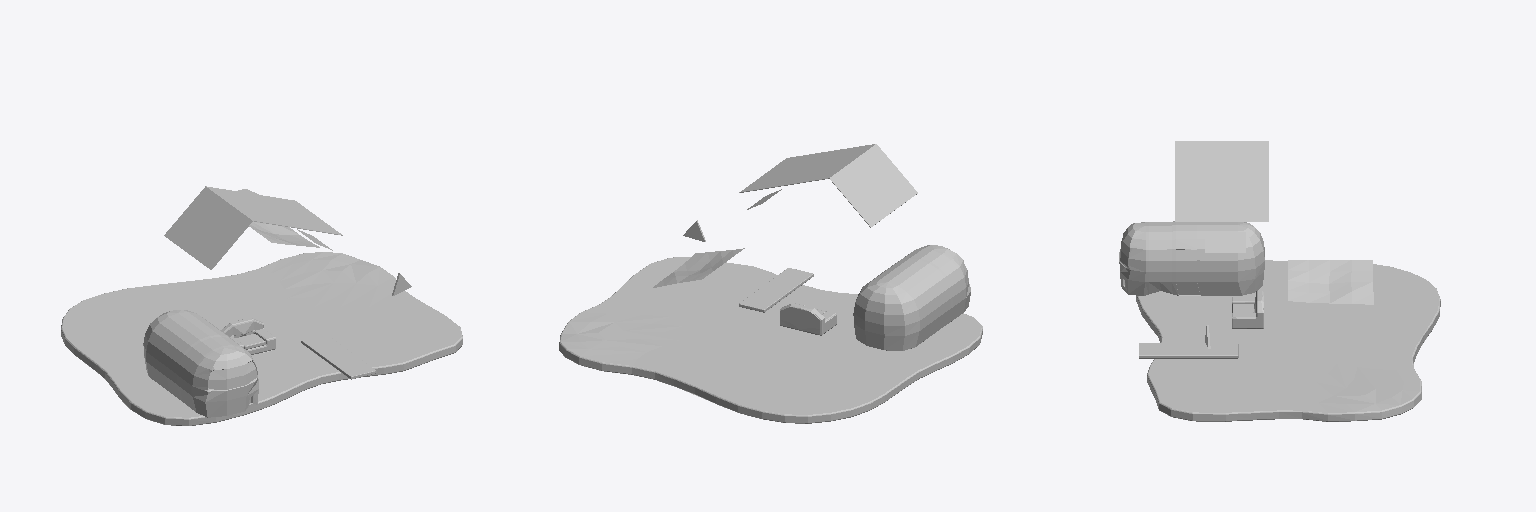
Rendered from untex_wasteland_p2.obj.
3 views of the same model, side by side, from view 1: azimuth 30°, elevation 25°; view 2: azimuth 150°, elevation 25°; view 3: azimuth 270°, elevation 25° (orthographic).
Parts seen in each view (by area): view 1: Dirt_ground, van, roof_slope, plank_1, cloth_tarp, chair; view 2: Dirt_ground, van, roof_slope, plank_1, cloth_tarp, chair; view 3: Dirt_ground, van, roof_slope, cloth_tarp, plank_1, scrap_plate, chair, window_cover.
Boxes of the visible parts, x1,y1,x2,y2 form: Dirt_ground: [61, 252, 462, 425]; van: [143, 310, 258, 417]; roof_slope: [164, 186, 342, 269]; plank_1: [301, 334, 376, 379]; cloth_tarp: [249, 221, 319, 247]; chair: [221, 318, 275, 352]; Dirt_ground: [559, 257, 982, 423]; van: [853, 245, 970, 350]; roof_slope: [739, 144, 917, 227]; plank_1: [739, 268, 813, 312]; cloth_tarp: [653, 248, 744, 287]; chair: [780, 303, 836, 335]; Dirt_ground: [1136, 260, 1440, 421]; van: [1119, 221, 1264, 295]; roof_slope: [1175, 141, 1268, 221]; cloth_tarp: [1288, 260, 1373, 304]; plank_1: [1139, 343, 1238, 358]; scrap_plate: [1195, 155, 1264, 196]; chair: [1232, 291, 1263, 328]; window_cover: [1205, 232, 1245, 252].
Bounding box in the file's own units: 15.41 × 7.86 × 13.11.